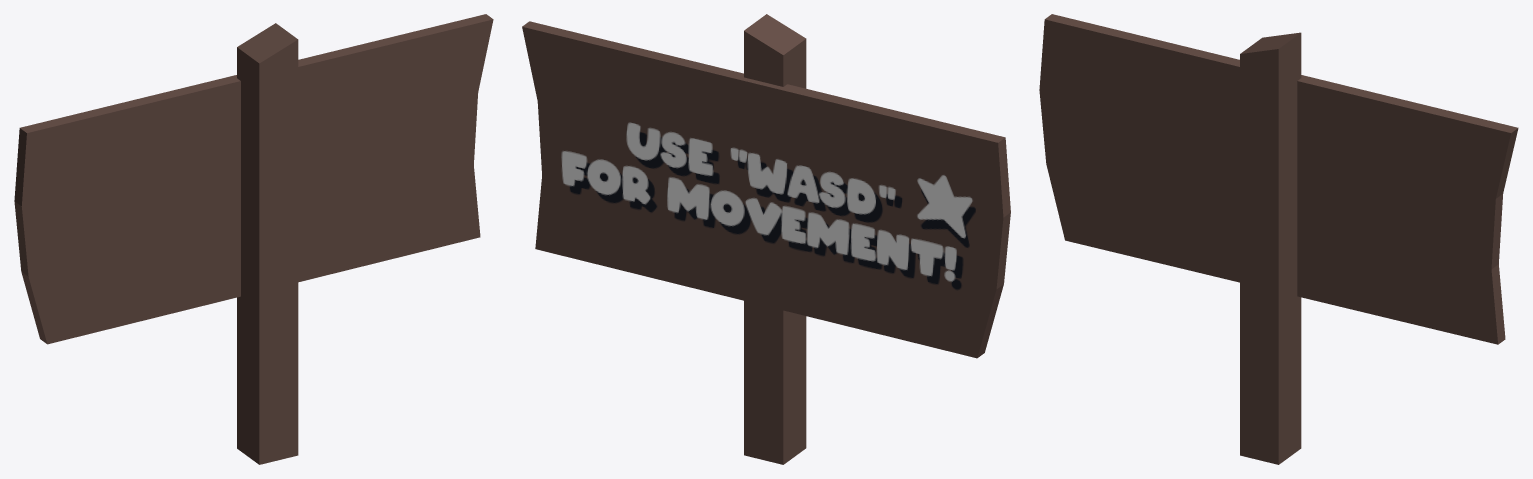
Rendered from letrero_wasd.fbx.
The picture shows the model from 3 angles, left to right: view 1: azimuth 30°, elevation 25°; view 2: azimuth 150°, elevation 25°; view 3: azimuth 330°, elevation 25°; orthographic projection. The views are drawn at different scales.
Visible parts, largest first — view 1: Cube.001, Cube; view 2: Cube.001, Cube; view 3: Cube.001, Cube.
Boxes of the visible parts, bbox=[...] form: Cube.001: bbox=[14, 14, 493, 344]; Cube: bbox=[237, 23, 298, 464]; Cube.001: bbox=[522, 21, 1010, 358]; Cube: bbox=[744, 14, 806, 464]; Cube.001: bbox=[1039, 14, 1518, 344]; Cube: bbox=[1240, 32, 1301, 464].
Size of the model in its own units: 898 by 757 by 85.44.
